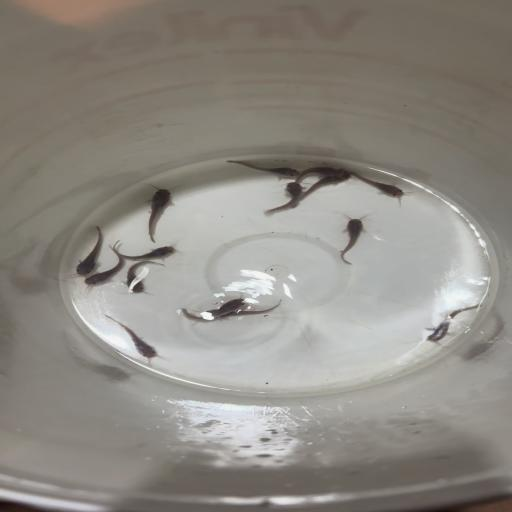lele: (97, 312, 167, 364), (411, 300, 486, 345), (288, 169, 353, 209), (64, 224, 110, 276), (173, 295, 250, 324), (143, 180, 178, 243), (352, 170, 418, 202), (83, 243, 126, 291), (220, 156, 301, 181), (333, 212, 368, 264), (262, 181, 309, 218), (204, 300, 300, 318), (117, 261, 166, 296), (112, 239, 182, 262), (287, 165, 345, 183)
